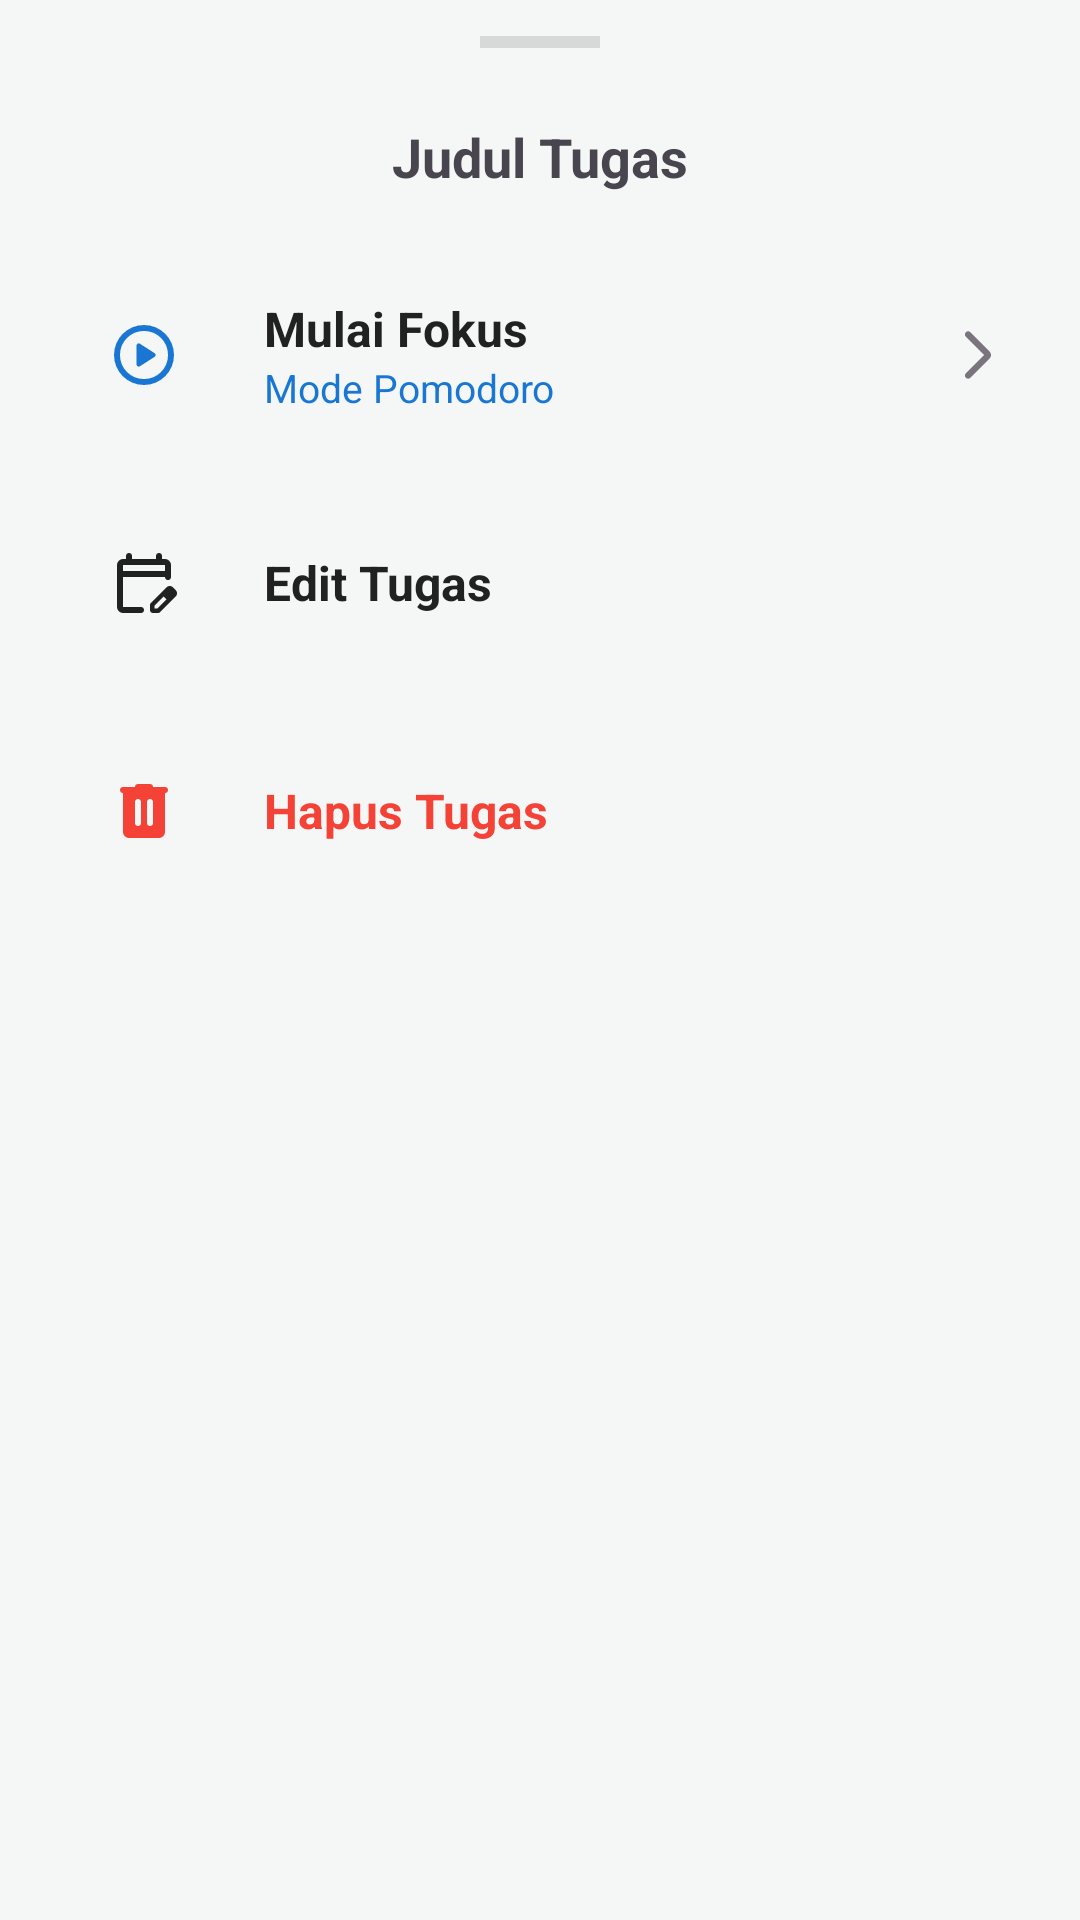

Screen size 1080px×1920px. Icon name, then its center in pixels as (x=x, y=y):
arrow forward: (x=978, y=355)
delete: (x=144, y=811)
edit calendar: (x=147, y=583)
play circle: (x=144, y=355)
